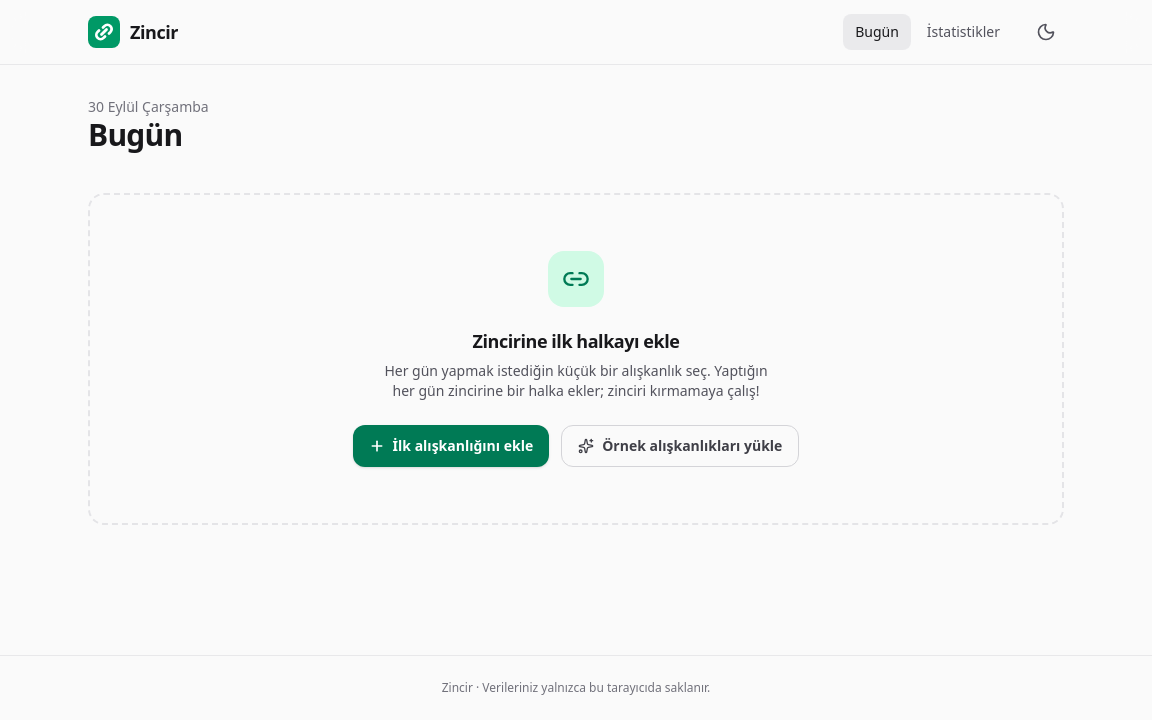
Test case: Yönergedeki dört işlem (CRUD) › Listele: boş durum gösterilir; örnek veriler yüklenince 6 alışkanlık listelenir
Expected: the heading "Zincirine ilk halkayı ekle" is shown, [472,327,680,355]
Step 1. Click the button "Örnek alışkanlıkları yükle" → (680, 446), box [561,425,799,467]
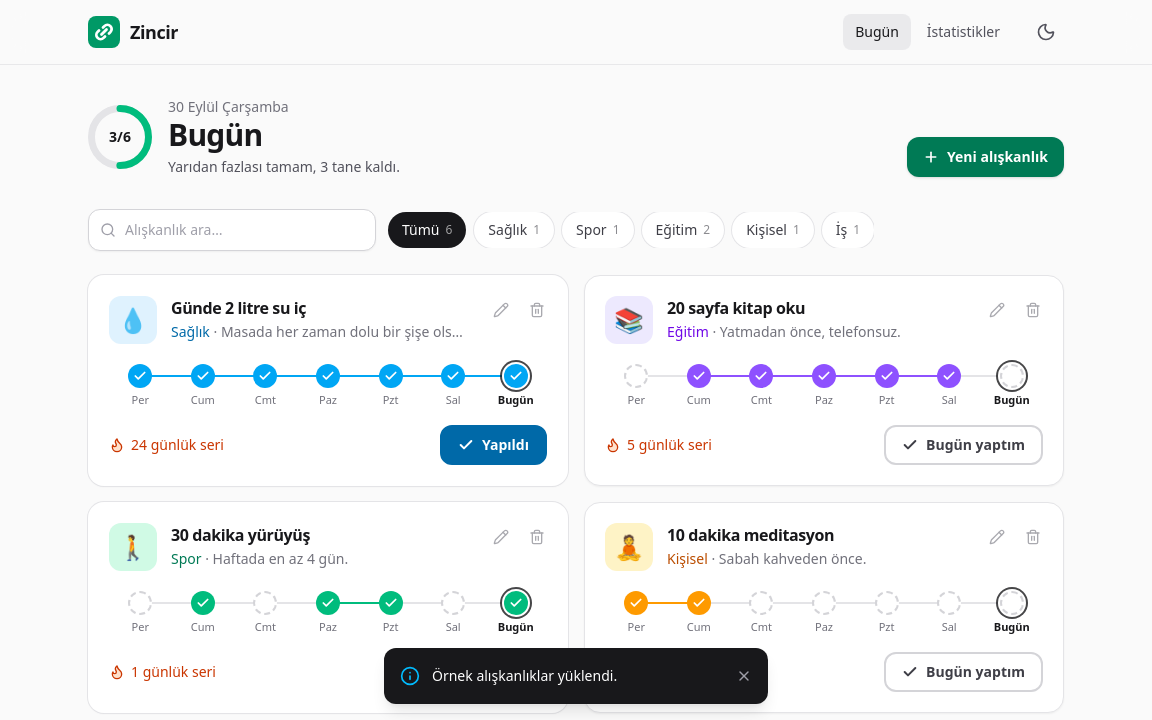
Expected: the picture named "Bugün 6 alışkanlıktan" is shown, [88,105,152,169]
